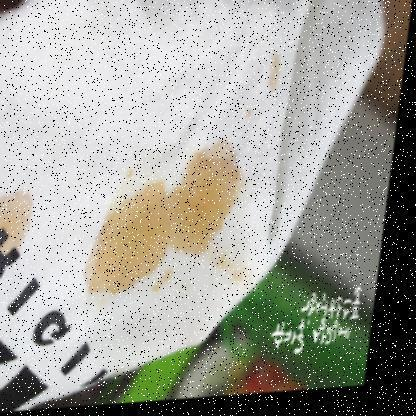coffee: (170, 152, 232, 251), (107, 198, 164, 272)
